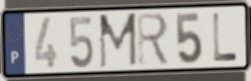4: (33, 15, 59, 72)
5: (175, 11, 205, 66), (68, 14, 95, 69)
L: (211, 12, 239, 64)
M: (98, 11, 139, 71)
R: (135, 11, 172, 68)
